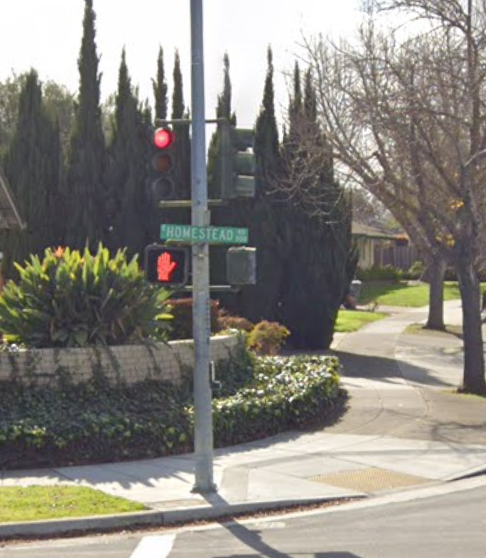red_light: (149, 124, 178, 201)
